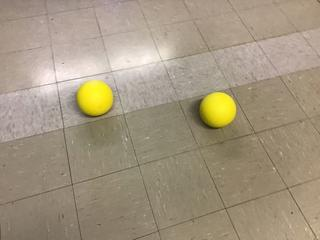power_cell: (76, 79, 115, 117), (198, 91, 240, 126)
